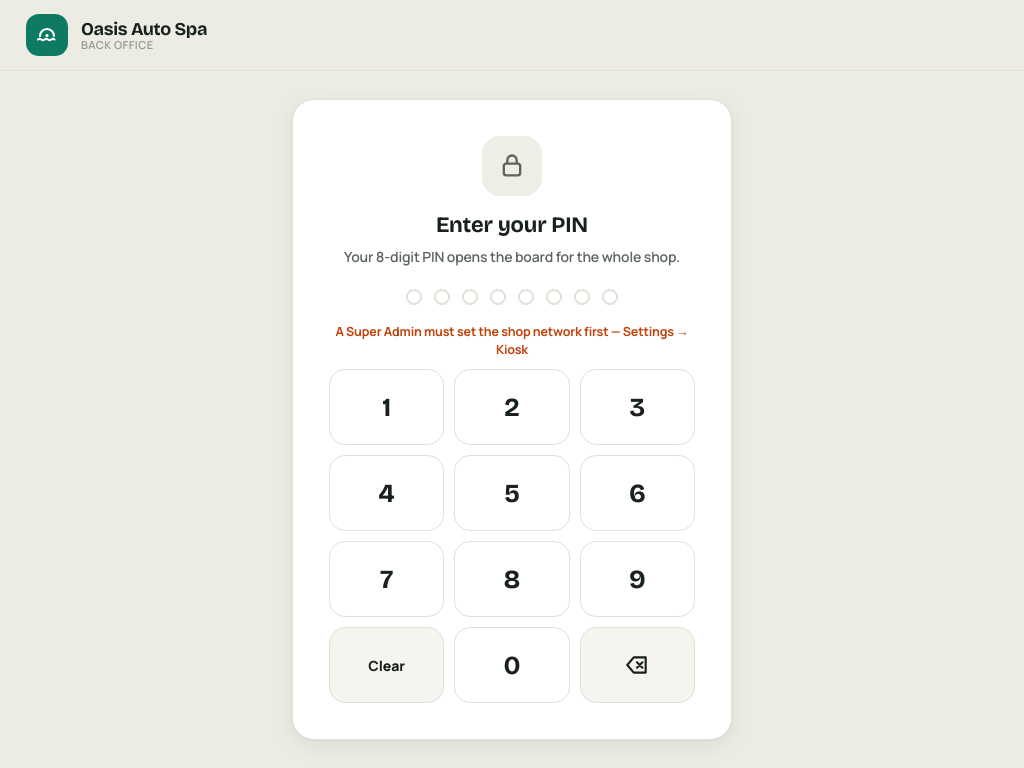
Test case: KeypadPage › 0218, then Back to keypad: a blocked keypad still says why
What coordinates should you click on to do the following:
click the button "0"
I would click on:
 (512, 665)
Its box is [454, 627, 570, 703].
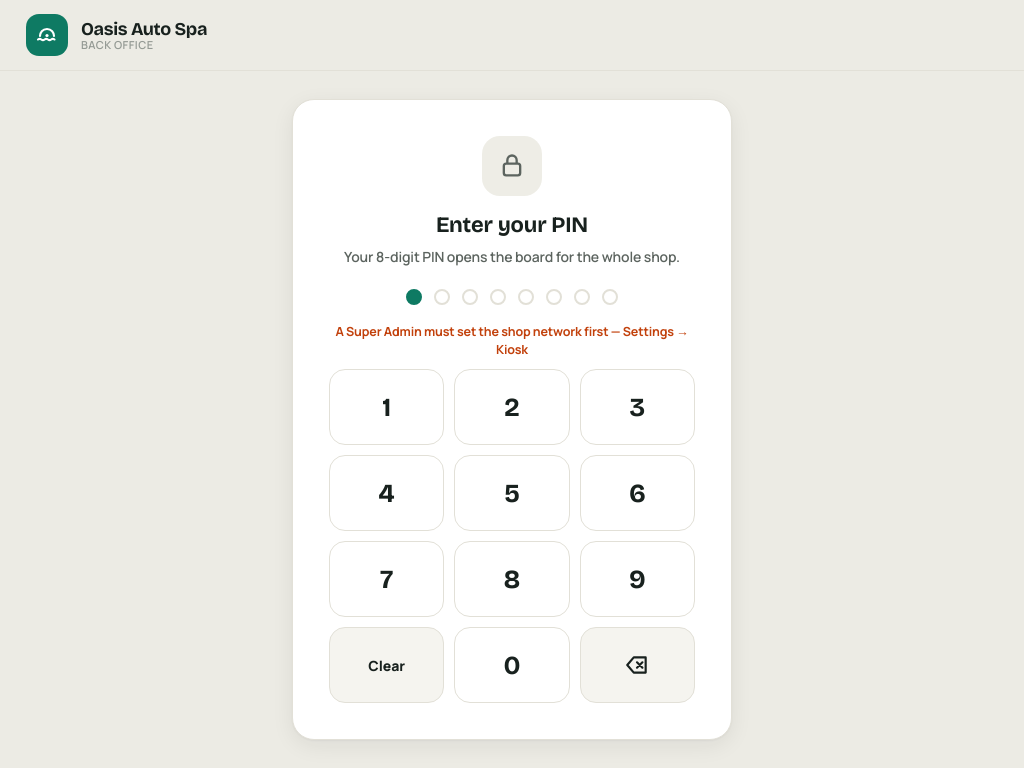
What coordinates should you click on to do the following:
click the button "2"
I would click on:
 (512, 407)
Its box is [454, 369, 570, 445].
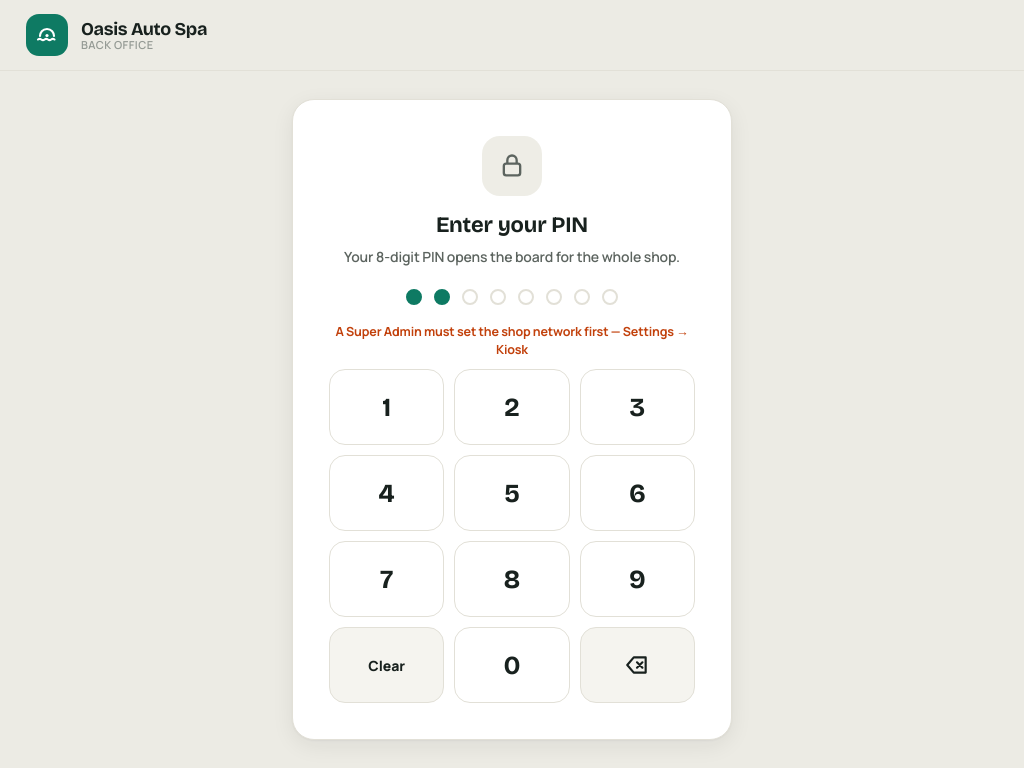
What coordinates should you click on to do the following:
click the button "1"
I would click on:
 (387, 407)
Its box is [329, 369, 444, 445].
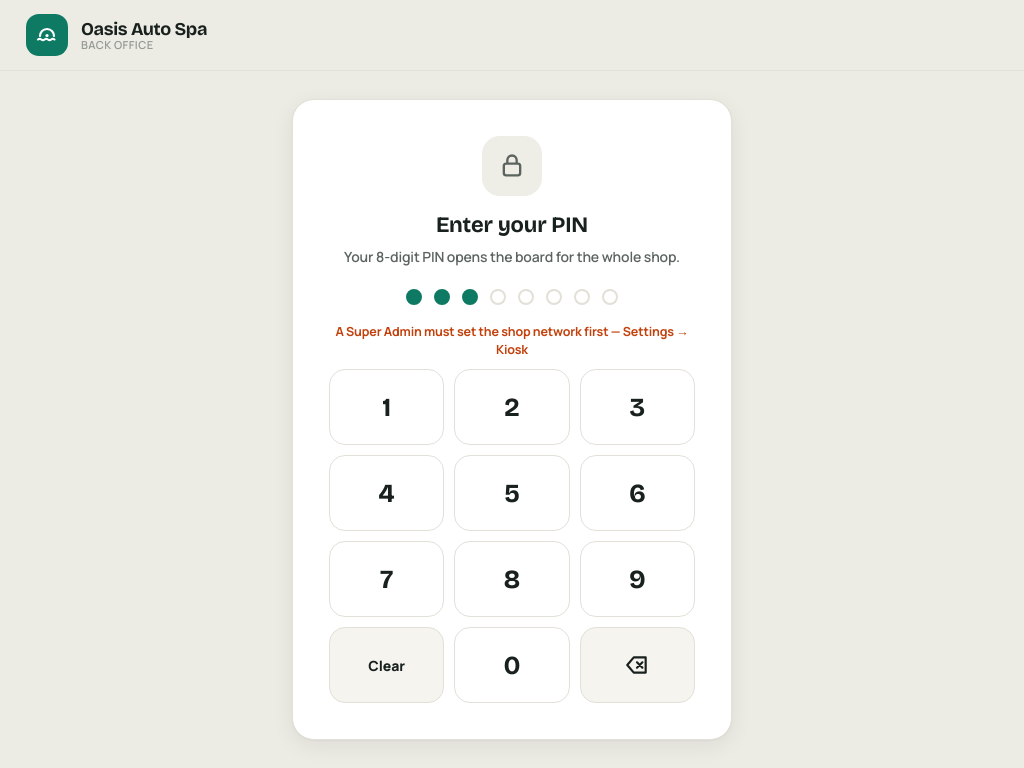
What coordinates should you click on to do the following:
click the button "8"
I would click on:
 (512, 579)
Its box is [454, 541, 570, 617].
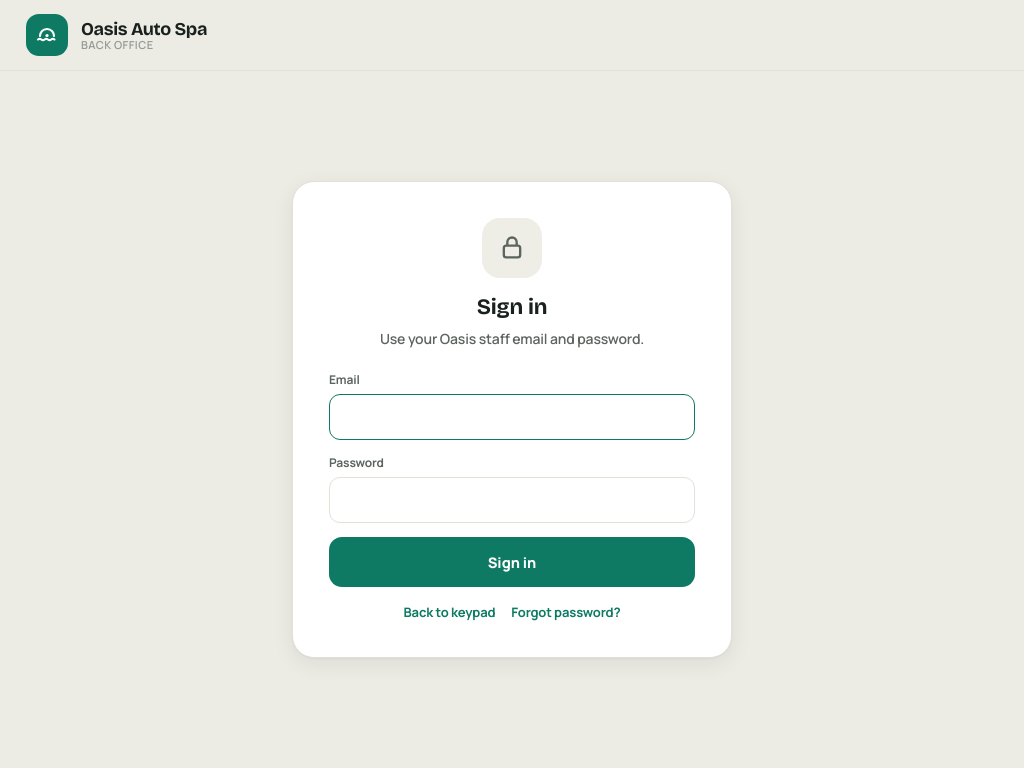
What coordinates should you click on to do the following:
click the link "Back to keypad"
I would click on:
 (450, 612)
Its box is [404, 603, 495, 621].
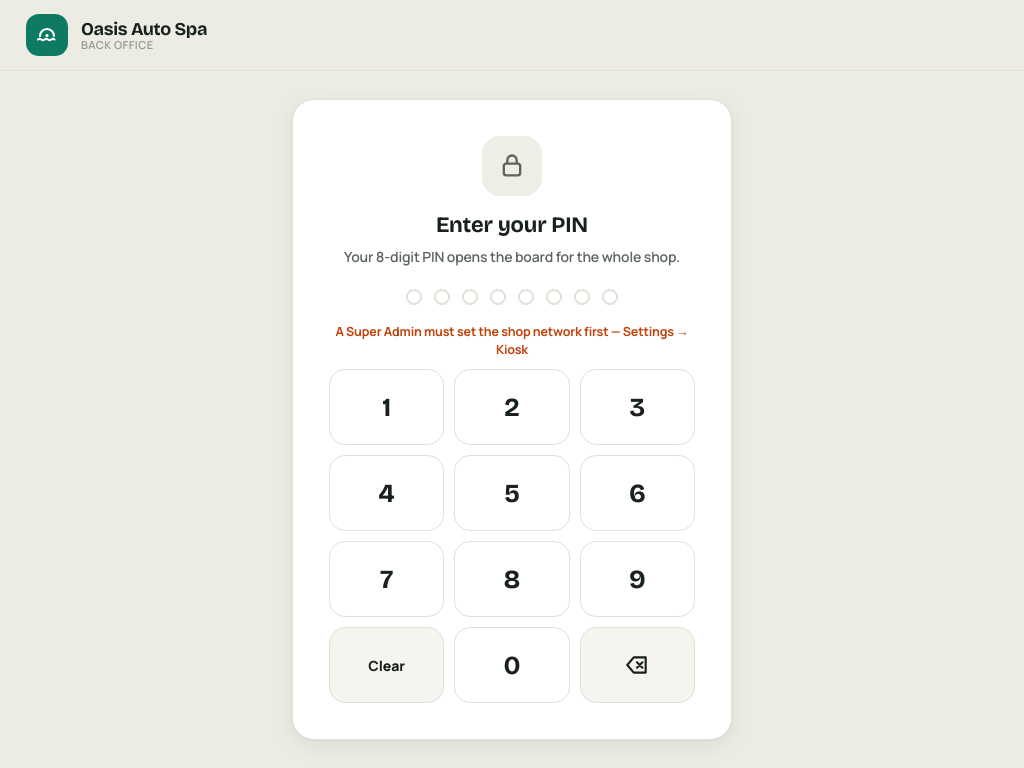
expect the text "A Super Admin must set the shop network first — Settings → Kiosk" is shown: met, box [329, 323, 695, 359]
